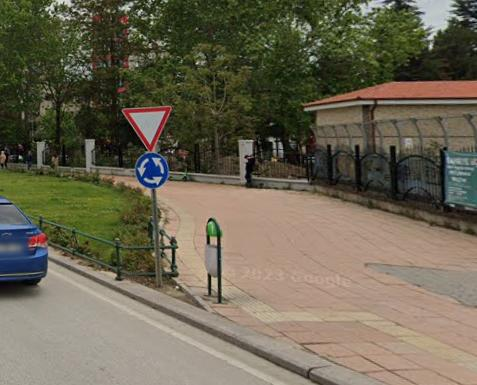crossroads: (136, 152, 168, 189)
